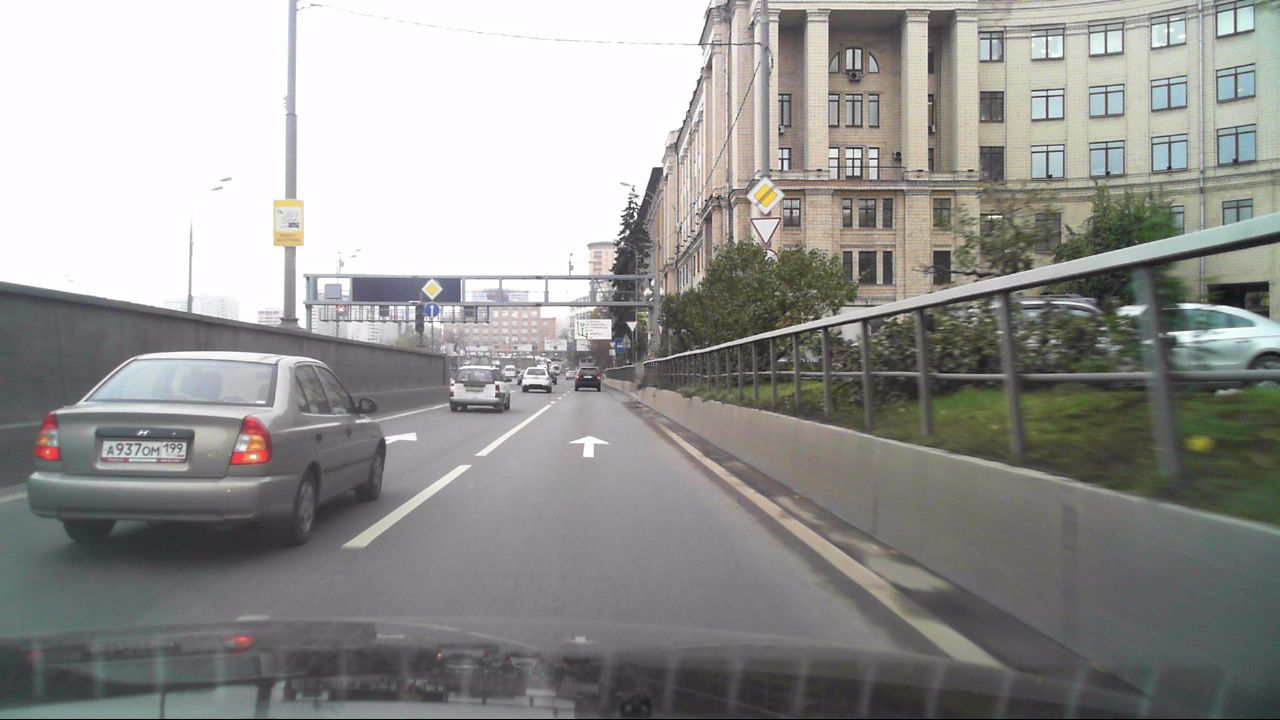main road: (748, 178, 783, 214)
